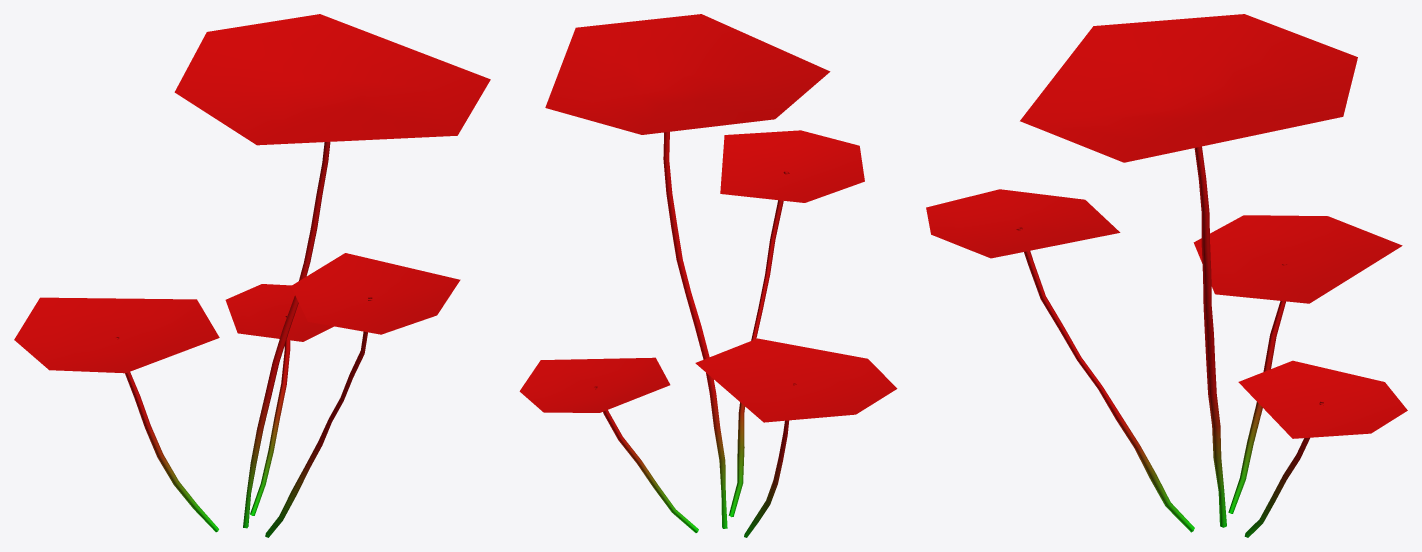
The model's file is Wood Sorrel_LOD0_Var13_wcwmchzja.fbx.
3 renders of one model, left to right at view 1: azimuth 30°, elevation 25°; view 2: azimuth 150°, elevation 25°; view 3: azimuth 270°, elevation 25°, orthographic. The views are drawn at different scales.
Visible parts, largest first — view 1: _m7gg_Var13_LOD0; view 2: _m7gg_Var13_LOD0; view 3: _m7gg_Var13_LOD0.
Part boxes in pixels (left/top/right/bottom): _m7gg_Var13_LOD0: left=14, top=14, right=490, bottom=537; _m7gg_Var13_LOD0: left=519, top=14, right=897, bottom=537; _m7gg_Var13_LOD0: left=926, top=14, right=1407, bottom=537.
Bounding box in the file's own units: 9.28 × 10.24 × 9.25.
